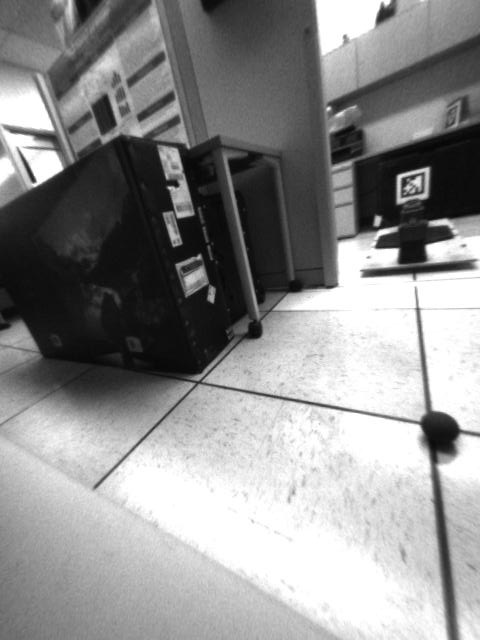dogtoy: (416, 400, 466, 456)
